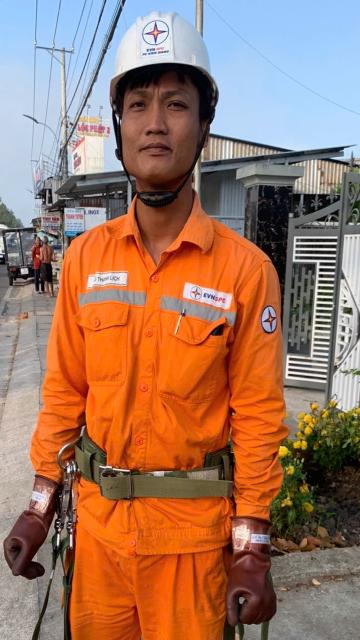gloves: (201, 503, 286, 632), (0, 459, 76, 589)
harness: (47, 412, 264, 522)
helmet: (104, 0, 253, 129)
